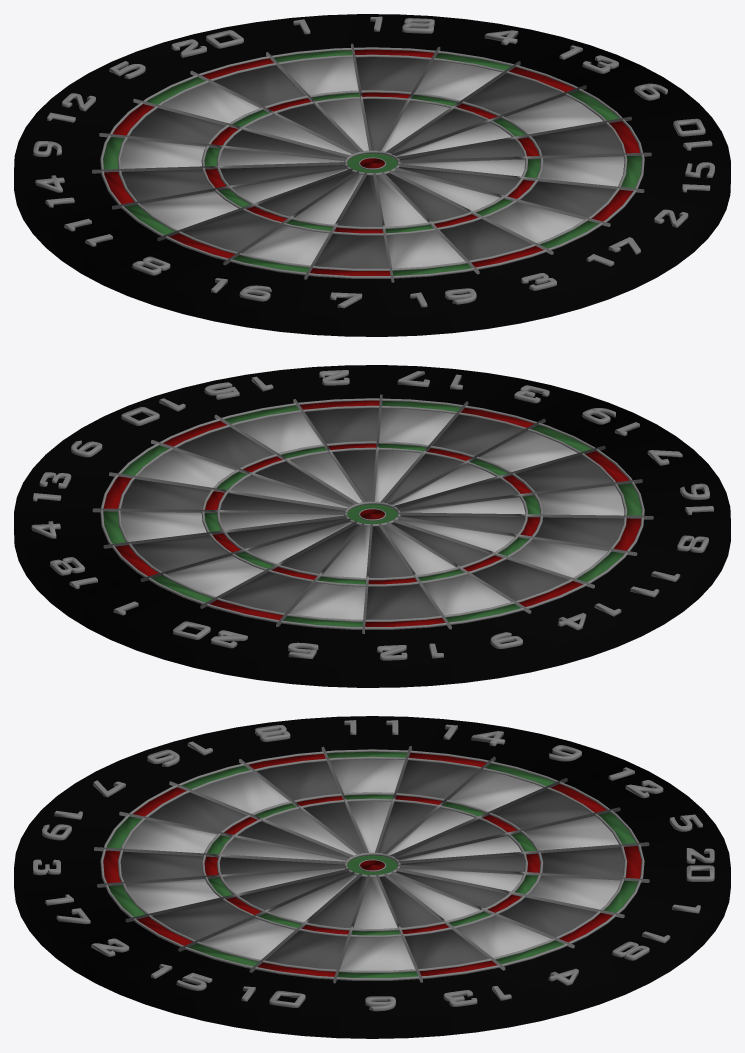
Rendered from DartBoardColored.fbx.
3 views of the same model, one above another, from view 1: azimuth 30°, elevation 25°; view 2: azimuth 150°, elevation 25°; view 3: azimuth 270°, elevation 25° (orthographic).
Visible parts, largest first — view 1: dart_tarcza_obj:Selection_2Cylinder, dart_tarcza_obj:Selection_1Solid_3, dart_tarcza_obj:Selection_1Solid_2, dart_tarcza_obj:Selection_1Solid_4, dart_tarcza_obj:SelectionCube_32, dart_tarcza_obj:SelectionCube_22, dart_tarcza_obj:SelectionCube_31, dart_tarcza_obj:SelectionCube_21, dart_tarcza_obj:SelectionCube_33, dart_tarcza_obj:Selection_1Solid_5, dart_tarcza_obj:SelectionCube_23, dart_tarcza_obj:SelectionCube_34 (+34 smaller); view 2: dart_tarcza_obj:Selection_2Cylinder, dart_tarcza_obj:Selection_1Solid_3, dart_tarcza_obj:Selection_1Solid_2, dart_tarcza_obj:Selection_1Solid_4, dart_tarcza_obj:SelectionCube_38, dart_tarcza_obj:SelectionCube_39, dart_tarcza_obj:SelectionCube_28, dart_tarcza_obj:SelectionCube_29, dart_tarcza_obj:Selection_1Solid_5, dart_tarcza_obj:SelectionCube_37, dart_tarcza_obj:SelectionCube_20, dart_tarcza_obj:SelectionCube_27 (+34 smaller); view 3: dart_tarcza_obj:Selection_2Cylinder, dart_tarcza_obj:Selection_1Solid_3, dart_tarcza_obj:Selection_1Solid_2, dart_tarcza_obj:Selection_1Solid_4, dart_tarcza_obj:SelectionCube_25, dart_tarcza_obj:SelectionCube_35, dart_tarcza_obj:SelectionCube_26, dart_tarcza_obj:SelectionCube_24, dart_tarcza_obj:Selection_1Solid_5, dart_tarcza_obj:SelectionCube_36, dart_tarcza_obj:SelectionCube_34, dart_tarcza_obj:SelectionCube_27 (+34 smaller).
Part boxes in pixels (<box>): dart_tarcza_obj:Selection_2Cylinder: <box>14,14,730,336</box>; dart_tarcza_obj:Selection_1Solid_3: <box>92,43,651,282</box>; dart_tarcza_obj:Selection_1Solid_2: <box>117,54,627,270</box>; dart_tarcza_obj:Selection_1Solid_4: <box>201,90,543,235</box>; dart_tarcza_obj:SelectionCube_32: <box>314,234,389,268</box>; dart_tarcza_obj:SelectionCube_22: <box>355,57,430,92</box>; dart_tarcza_obj:SelectionCube_31: <box>386,230,464,268</box>; dart_tarcza_obj:SelectionCube_21: <box>280,57,358,95</box>; dart_tarcza_obj:SelectionCube_33: <box>242,225,329,265</box>; dart_tarcza_obj:Selection_1Solid_5: <box>217,96,527,229</box>; dart_tarcza_obj:SelectionCube_23: <box>415,60,501,100</box>; dart_tarcza_obj:SelectionCube_34: <box>182,210,279,252</box>; dart_tarcza_obj:Selection_2Cylinder: <box>14,365,730,687</box>; dart_tarcza_obj:Selection_1Solid_3: <box>92,394,653,633</box>; dart_tarcza_obj:Selection_1Solid_2: <box>117,405,627,621</box>; dart_tarcza_obj:Selection_1Solid_4: <box>201,441,543,586</box>; dart_tarcza_obj:SelectionCube_38: <box>366,584,440,619</box>; dart_tarcza_obj:SelectionCube_39: <box>289,582,365,619</box>; dart_tarcza_obj:SelectionCube_28: <box>305,408,378,443</box>; dart_tarcza_obj:SelectionCube_29: <box>379,408,454,445</box>; dart_tarcza_obj:Selection_1Solid_5: <box>217,447,527,580</box>; dart_tarcza_obj:SelectionCube_37: <box>422,574,510,615</box>; dart_tarcza_obj:SelectionCube_20: <box>220,572,311,613</box>; dart_tarcza_obj:SelectionCube_27: <box>234,412,322,453</box>; dart_tarcza_obj:Selection_2Cylinder: <box>14,716,730,1038</box>; dart_tarcza_obj:Selection_1Solid_3: <box>94,746,649,983</box>; dart_tarcza_obj:Selection_1Solid_2: <box>117,756,627,972</box>; dart_tarcza_obj:Selection_1Solid_4: <box>201,792,543,937</box>; dart_tarcza_obj:SelectionCube_25: <box>340,936,414,970</box>; dart_tarcza_obj:SelectionCube_35: <box>330,759,404,793</box>; dart_tarcza_obj:SelectionCube_26: <box>265,930,347,969</box>; dart_tarcza_obj:SelectionCube_24: <box>404,929,488,968</box>; dart_tarcza_obj:Selection_1Solid_5: <box>217,798,527,931</box>; dart_tarcza_obj:SelectionCube_36: <box>397,760,478,798</box>; dart_tarcza_obj:SelectionCube_34: <box>257,761,340,800</box>; dart_tarcza_obj:SelectionCube_27: <box>200,918,294,959</box>.
Bounding box in the file's own units: 9.9 × 0.3684 × 9.9.
